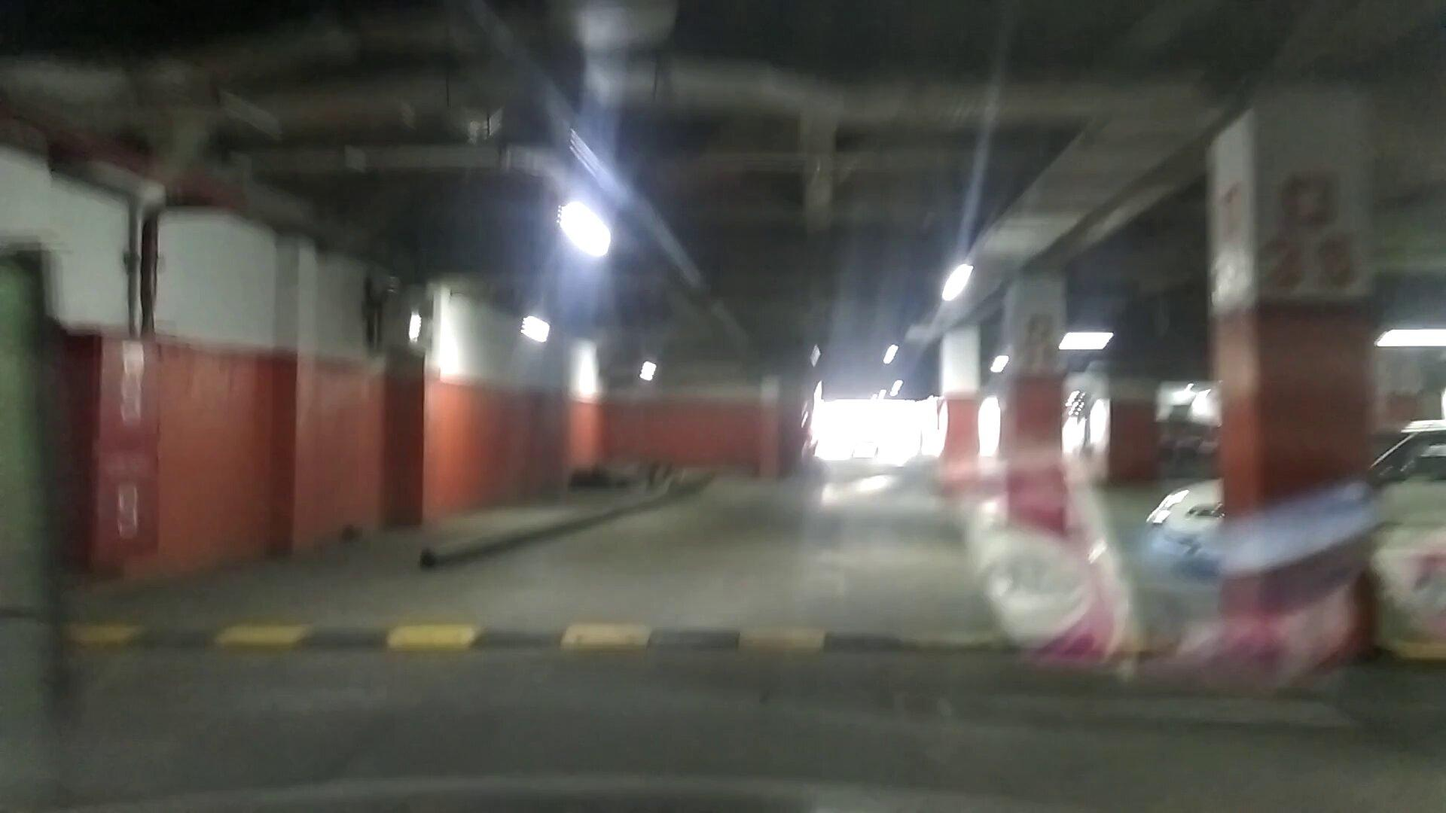Bump: (77, 593, 1196, 679)
